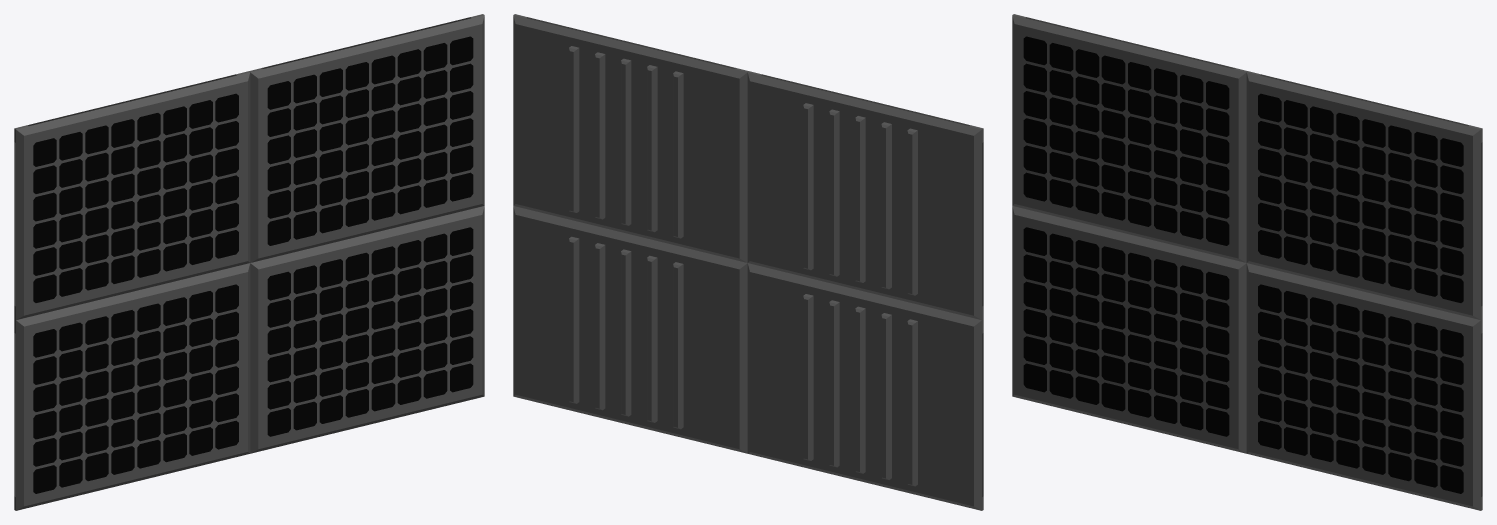
The model's file is SolarPanel.obj.
The picture shows the model from 3 angles, left to right: view 1: azimuth 30°, elevation 25°; view 2: azimuth 150°, elevation 25°; view 3: azimuth 330°, elevation 25°; orthographic projection.
Visible parts, largest first — view 1: SolarPanel_Panel.001_SolarPanel_Panel, SolarPanel_Panel.002_SolarPanel_Panel, SolarPanel_Panel.004_SolarPanel_Panel, SolarPanel_Panel.003_SolarPanel_Panel; view 2: SolarPanel_Panel.001_SolarPanel_Panel, SolarPanel_Panel.002_SolarPanel_Panel, SolarPanel_Panel.004_SolarPanel_Panel, SolarPanel_Panel.003_SolarPanel_Panel; view 3: SolarPanel_Panel.004_SolarPanel_Panel, SolarPanel_Panel.003_SolarPanel_Panel, SolarPanel_Panel.001_SolarPanel_Panel, SolarPanel_Panel.002_SolarPanel_Panel.
Part boxes in pixels (box(x1,y1,x2,y2)): SolarPanel_Panel.001_SolarPanel_Panel: box(14, 71, 250, 319); SolarPanel_Panel.002_SolarPanel_Panel: box(14, 263, 250, 510); SolarPanel_Panel.004_SolarPanel_Panel: box(249, 14, 484, 262); SolarPanel_Panel.003_SolarPanel_Panel: box(250, 206, 484, 453); SolarPanel_Panel.001_SolarPanel_Panel: box(747, 71, 983, 319); SolarPanel_Panel.002_SolarPanel_Panel: box(747, 263, 983, 510); SolarPanel_Panel.004_SolarPanel_Panel: box(513, 14, 748, 262); SolarPanel_Panel.003_SolarPanel_Panel: box(513, 206, 747, 453); SolarPanel_Panel.004_SolarPanel_Panel: box(1246, 71, 1482, 319); SolarPanel_Panel.003_SolarPanel_Panel: box(1246, 263, 1482, 510); SolarPanel_Panel.001_SolarPanel_Panel: box(1012, 14, 1247, 262); SolarPanel_Panel.002_SolarPanel_Panel: box(1012, 206, 1246, 453).
Size of the model in its own units: 36 by 28 by 1.5.
Materials: 1 (1 with a texture image).
